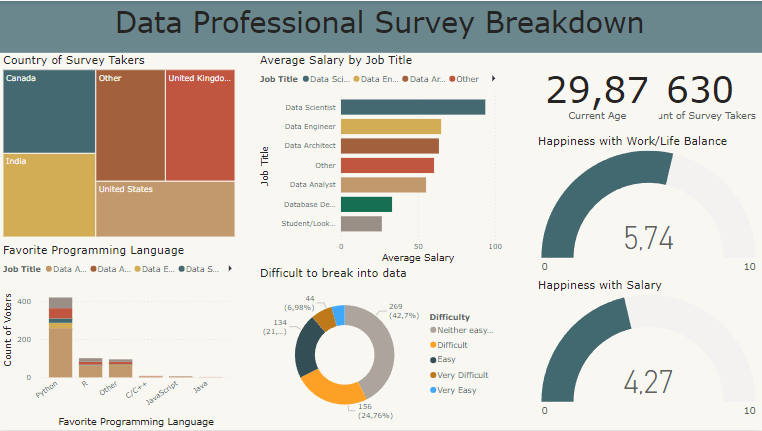

What the dashboard file says about the page in this screenshot:
{"tool":"powerbi","page":{"name":"Página 1","canvas":[1280,720],"ordinal":0},"visuals":[{"type":"textbox","box":[0,0,1280,87.3],"z":0},{"type":"card","fields":{"Values":["Count(Data Professional Survey.Unique ID)"]},"box":[1071.7,87.3,208.3,136.1],"z":1000},{"type":"card","fields":{"Values":["Avg(Data Professional Survey.Q10 - Current Age)"]},"box":[898.7,87.3,208.3,136.1],"z":2000},{"type":"barChart","title":"Average Salary by Job Title","fields":{"Category":["Data Professional Survey.Q1 - Which Title Best Fits your Current Role?.1"],"Y":["Avg(Data Professional Survey.Average Salary)"],"Series":["Data Professional Survey.Q1 - Which Title Best Fits your Current Role?.1"]},"box":[431.7,87.3,416.6,357.8],"z":3000},{"type":"columnChart","title":"Favorite Programming Language","fields":{"Category":["Data Professional Survey.Q5 - Favorite Programming Language.1"],"Y":["CountNonNull(Data Professional Survey.Unique ID)"],"Series":["Data Professional Survey.Q1 - Which Title Best Fits your Current Role?.1"]},"box":[0,406.5,399.8,314.1],"z":4000},{"type":"treemap","title":"Country of Survey Takers","fields":{"Values":["Count(Data Professional Survey.Q11 - Which Country do you live in?.1)"],"Group":["Data Professional Survey.Q11 - Which Country do you live in?.1"]},"box":[0,87.3,399.8,314.1],"z":5000},{"type":"gauge","title":"Happiness with Work/Life Balance","fields":{"Y":["Avg(Data Professional Survey.Q6 - How Happy are you in your Current Position with the following? (Work/Life Balance))"],"MinValue":["Min(Data Professional Survey.Q6 - How Happy are you in your Current Position with the following? (Work/Life Balance))"],"MaxValue":["Max(Data Professional Survey.Q6 - How Happy are you in your Current Position with the following? (Work/Life Balance))1"]},"box":[898.7,223.4,381.3,241.9],"z":6000},{"type":"gauge","title":"Happiness with Salary","fields":{"Y":["Avg(Data Professional Survey.Q6 - How Happy are you in your Current Position with the following? (Salary))"],"MinValue":["Min(Data Professional Survey.Q6 - How Happy are you in your Current Position with the following? (Salary))"],"MaxValue":["Max(Data Professional Survey.Q6 - How Happy are you in your Current Position with the following? (Salary))"]},"box":[898.7,465.3,381.3,241.9],"z":7000},{"type":"donutChart","title":"Difficult to break into data","fields":{"Category":["Data Professional Survey.Q7 - How difficult was it for you to break into Data?"],"Y":["CountNonNull(Data Professional Survey.Q7 - How difficult was it for you to break into Data?)"]},"box":[431.7,445.1,416.6,275.5],"z":8000}]}

Visuals, with their boxes in screenshot pixels (x1, y1, x2, y2), scaled from the page's 1280x720 canvas onto the 762x431 screenshot:
textbox: 0,0,761,52
card - Count(Data Professional Survey.Unique ID): 638,52,761,134
card - Avg(Data Professional Survey.Q10 - Current Age): 535,52,659,134
"Average Salary by Job Title" barChart: 257,52,505,266
"Favorite Programming Language" columnChart: 0,243,238,430
"Country of Survey Takers" treemap: 0,52,238,240
"Happiness with Work/Life Balance" gauge: 535,134,761,279
"Happiness with Salary" gauge: 535,279,761,423
"Difficult to break into data" donutChart: 257,266,505,430
